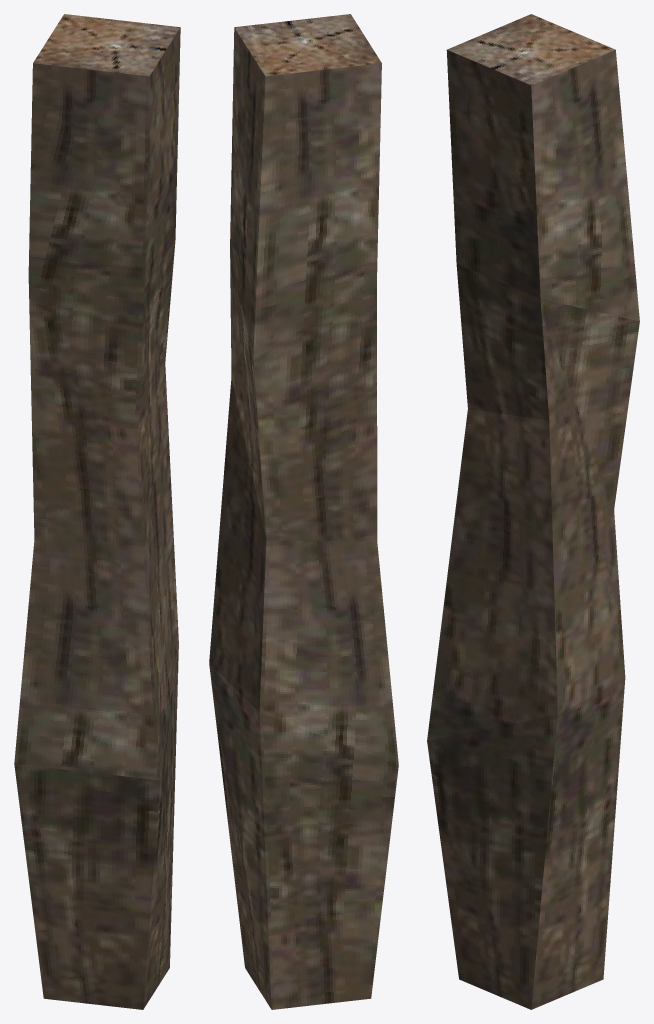
Rendered from lf_wooden_fence_post.glb.
3 views of the same model, side by side, from view 1: azimuth 30°, elevation 25°; view 2: azimuth 150°, elevation 25°; view 3: azimuth 270°, elevation 25° (orthographic).
Visible parts, largest first — view 1: wooden_fence_pole; view 2: wooden_fence_pole; view 3: wooden_fence_pole.
Part boxes in pixels (box(x1,y1,x2,y2)): wooden_fence_pole: box(14, 14, 180, 1009); wooden_fence_pole: box(209, 14, 398, 1009); wooden_fence_pole: box(427, 14, 639, 1009).
Bounding box in the file's own units: 0.2369 × 1.2 × 0.2488.
1 material, 1 textured.
